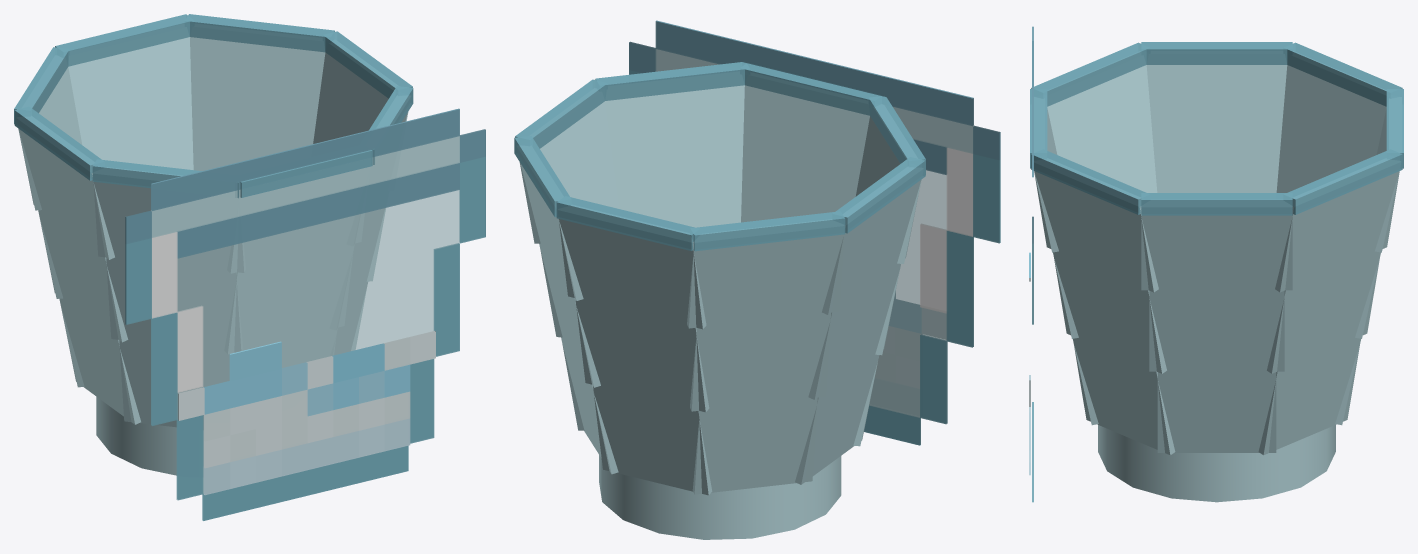
File: CMU3DDrinkVodkaGlass.glb
The picture shows the model from 3 angles, left to right: view 1: azimuth 30°, elevation 25°; view 2: azimuth 150°, elevation 25°; view 3: azimuth 270°, elevation 25°; orthographic projection. The views are drawn at different scales.
Parts seen in each view (by area): view 1: base original source artwork, fill original source artwork, hollow wall tier 3 facet 2, hollow wall tier 3 facet 3, hollow wall tier 2 facet 7, hollow wall tier 2 facet 6, hollow wall tier 2 facet 5, hollow wall tier 3 facet 5, hollow wall tier 1 facet 5, hollow wall tier 3 facet 1, hollow wall tier 3 facet 6, heavy glass foot (+16 smaller); view 2: base original source artwork, hollow wall tier 3 facet 8, heavy glass foot, hollow wall tier 3 facet 7, hollow wall tier 3 facet 4, hollow wall tier 2 facet 4, hollow wall tier 3 facet 3, hollow wall tier 2 facet 3, hollow wall tier 1 facet 4, hollow wall tier 1 facet 3, hollow wall tier 2 facet 5, hollow wall tier 3 facet 1 (+18 smaller); view 3: hollow wall tier 3 facet 5, hollow wall tier 3 facet 1, heavy glass foot, hollow wall tier 2 facet 1, hollow wall tier 1 facet 1, hollow wall tier 3 facet 6, hollow wall tier 3 facet 4, hollow wall tier 3 facet 8, hollow wall tier 3 facet 2, hollow wall tier 2 facet 2, hollow wall tier 2 facet 8, hollow wall tier 1 facet 8 (+16 smaller).
Part boxes in pixels (x1,y1,x2,y2): base original source artwork: [125, 108, 485, 520]; fill original source artwork: [178, 331, 435, 495]; hollow wall tier 3 facet 2: [190, 37, 325, 138]; hollow wall tier 3 facet 3: [68, 37, 192, 150]; hollow wall tier 2 facet 7: [224, 244, 353, 353]; hollow wall tier 2 facet 6: [106, 257, 242, 352]; hollow wall tier 2 facet 5: [38, 210, 128, 342]; hollow wall tier 3 facet 5: [18, 128, 114, 259]; hollow wall tier 1 facet 5: [59, 298, 140, 424]; hollow wall tier 3 facet 1: [313, 52, 408, 142]; hollow wall tier 3 facet 6: [93, 182, 245, 272]; heavy glass foot: [96, 397, 203, 475]; base original source artwork: [629, 20, 1000, 445]; hollow wall tier 3 facet 8: [605, 85, 744, 191]; heavy glass foot: [599, 455, 841, 539]; hollow wall tier 3 facet 7: [742, 85, 869, 202]; hollow wall tier 3 facet 4: [687, 234, 843, 328]; hollow wall tier 2 facet 4: [690, 312, 830, 411]; hollow wall tier 3 facet 3: [558, 219, 706, 329]; hollow wall tier 2 facet 3: [575, 299, 709, 412]; hollow wall tier 1 facet 4: [692, 397, 817, 494]; hollow wall tier 1 facet 3: [593, 385, 712, 495]; hollow wall tier 2 facet 5: [808, 263, 900, 399]; hollow wall tier 3 facet 1: [519, 101, 617, 243]; hollow wall tier 3 facet 5: [1146, 65, 1287, 153]; hollow wall tier 3 facet 1: [1141, 215, 1292, 290]; heavy glass foot: [1098, 425, 1335, 502]; hollow wall tier 2 facet 1: [1149, 288, 1284, 371]; hollow wall tier 1 facet 1: [1157, 370, 1276, 452]; hollow wall tier 3 facet 6: [1047, 65, 1153, 174]; hollow wall tier 3 facet 4: [1280, 65, 1386, 174]; hollow wall tier 3 facet 8: [1034, 171, 1158, 292]; hollow wall tier 3 facet 2: [1275, 171, 1399, 292]; hollow wall tier 2 facet 2: [1267, 251, 1380, 373]; hollow wall tier 2 facet 8: [1053, 251, 1166, 373]; hollow wall tier 1 facet 8: [1073, 337, 1175, 455].
Size of what is drawn, in the model's own units: 0.4375 by 0.4062 by 0.394.
5 materials, 2 textured.
